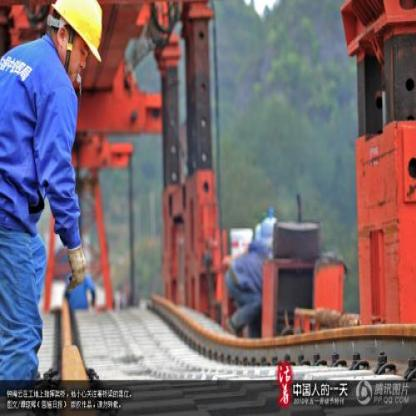helmet: (43, 1, 108, 80)
